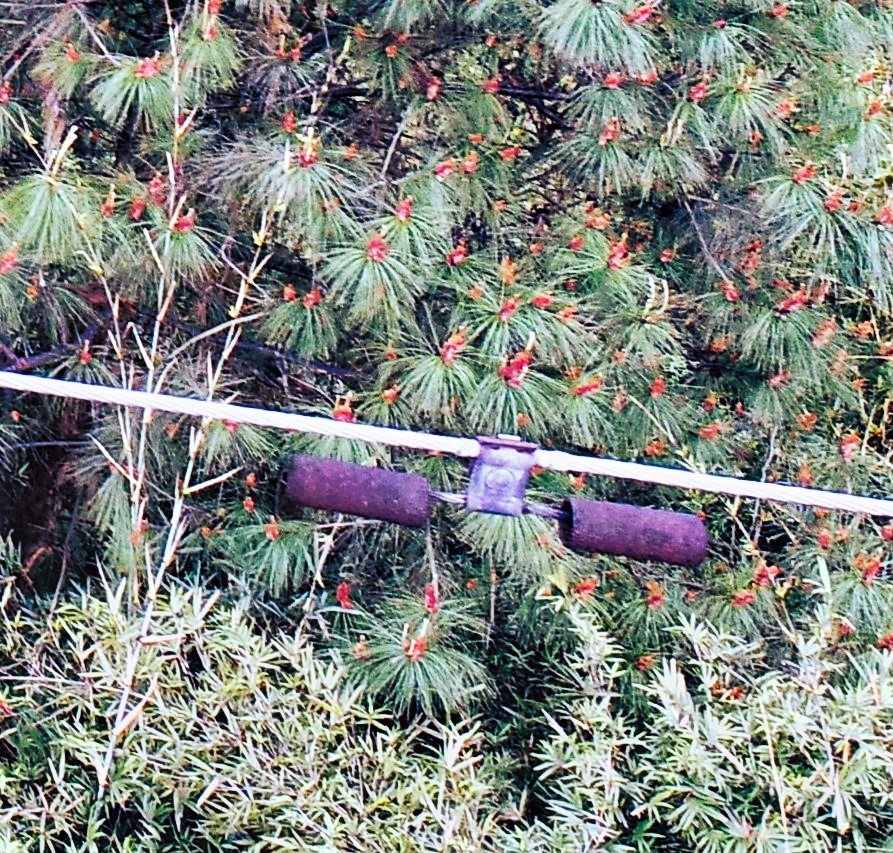Shockproof hammer: (281, 412, 714, 576)
